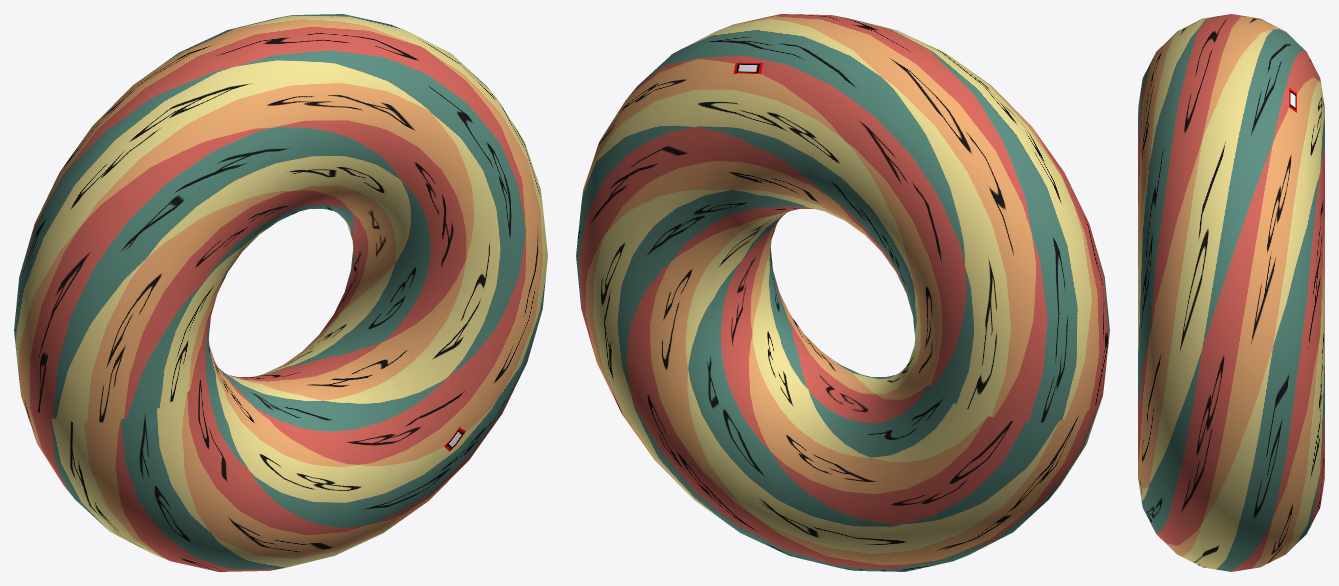
Rendered from uv_checkerboard_res_1024_iter_767_cat_map.obj.
3 renders of one model, left to right at view 1: azimuth 30°, elevation 25°; view 2: azimuth 150°, elevation 25°; view 3: azimuth 270°, elevation 25°, orthographic. The views are drawn at different scales.
Bounding box in the file's own units: 3 × 2.98 × 1.
Materials: 1 (1 with a texture image).
